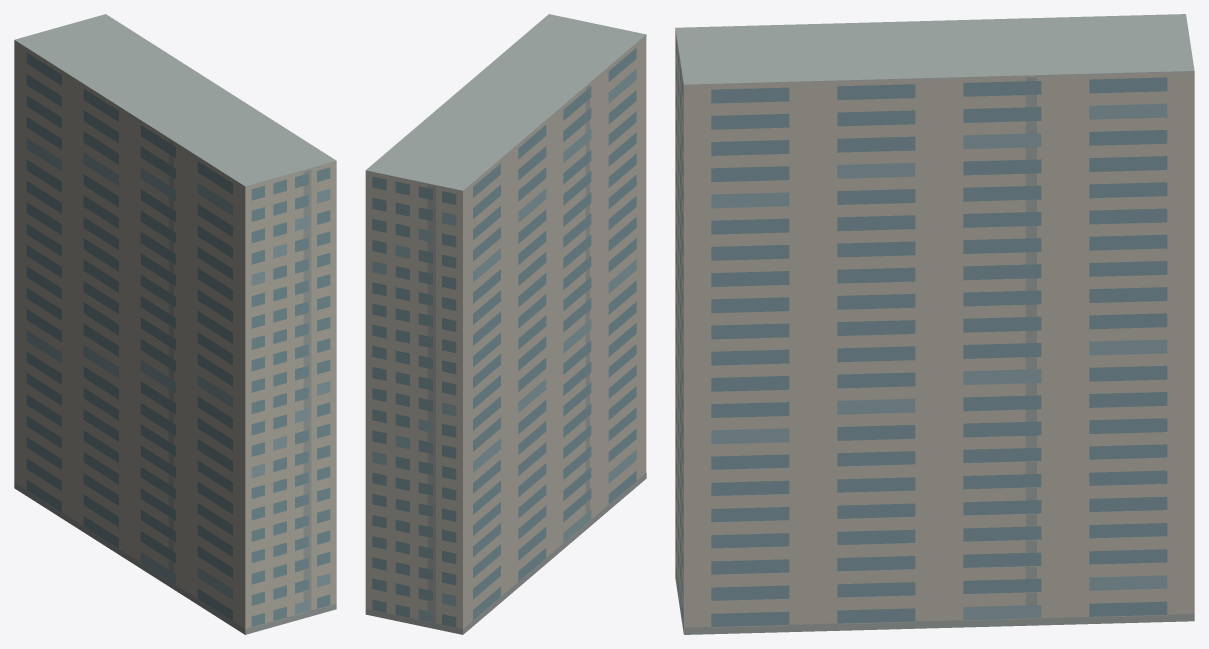
File: residential-9daf565f-45c1-426e-9c74-9db375bc2186.glb
3 renders of one model, left to right at view 1: azimuth 30°, elevation 25°; view 2: azimuth 150°, elevation 25°; view 3: azimuth 270°, elevation 25°, orthographic. The views are drawn at different scales.
Visible parts, largest first — view 1: residential-9daf565f-45c1-426e-9c74-9db375bc2186.tmp; view 2: residential-9daf565f-45c1-426e-9c74-9db375bc2186.tmp; view 3: residential-9daf565f-45c1-426e-9c74-9db375bc2186.tmp.
Part boxes in pixels (<box>): residential-9daf565f-45c1-426e-9c74-9db375bc2186.tmp: <box>14,14,336,634</box>; residential-9daf565f-45c1-426e-9c74-9db375bc2186.tmp: <box>365,14,646,634</box>; residential-9daf565f-45c1-426e-9c74-9db375bc2186.tmp: <box>675,14,1194,634</box>.
Bounding box in the file's own units: 17.63 × 64.05 × 54.77.
